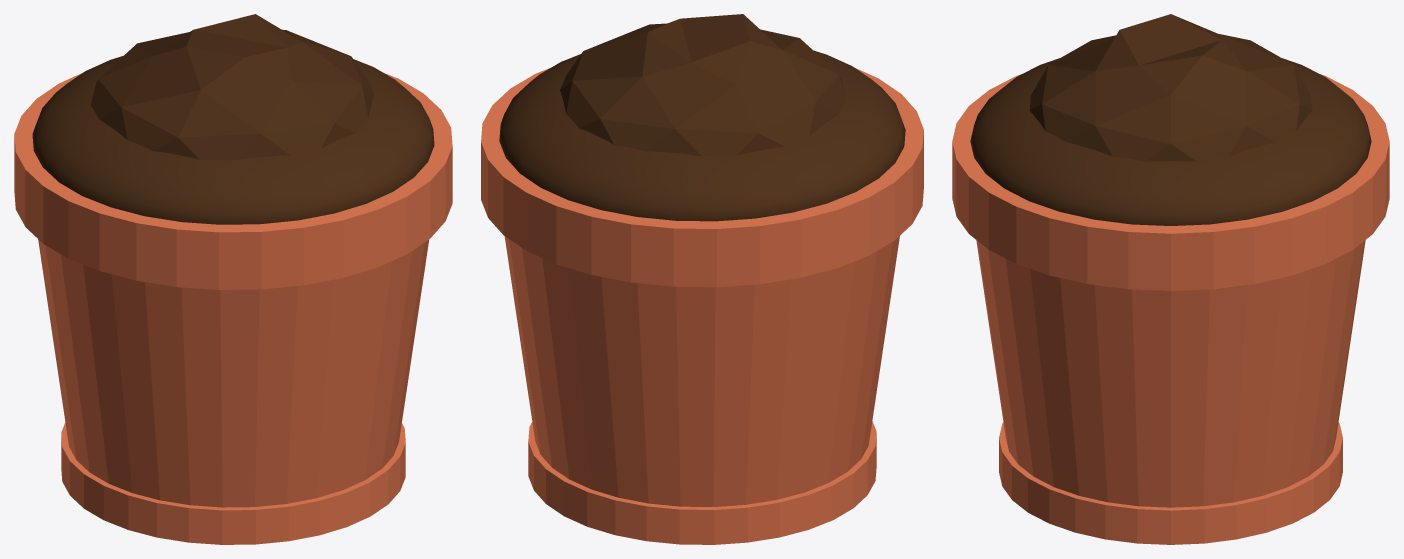
File: Vase1.fbx
3 views of the same model, side by side, from view 1: azimuth 30°, elevation 25°; view 2: azimuth 150°, elevation 25°; view 3: azimuth 270°, elevation 25° (orthographic).
Parts seen in each view (by area): view 1: Vase.005, Sphere.014, Icosphere.005; view 2: Vase.005, Sphere.014, Icosphere.005; view 3: Vase.005, Sphere.014, Icosphere.005.
Part boxes in pixels (<box>): Vase.005: <box>14,72,452,544</box>; Sphere.014: <box>32,56,434,224</box>; Icosphere.005: <box>90,14,374,160</box>; Vase.005: <box>481,67,923,544</box>; Sphere.014: <box>499,50,905,221</box>; Icosphere.005: <box>560,14,846,156</box>; Vase.005: <box>952,74,1389,544</box>; Sphere.014: <box>970,58,1371,225</box>; Icosphere.005: <box>1029,14,1312,161</box>.
Size of the model in its own units: 218 by 239 by 218.
